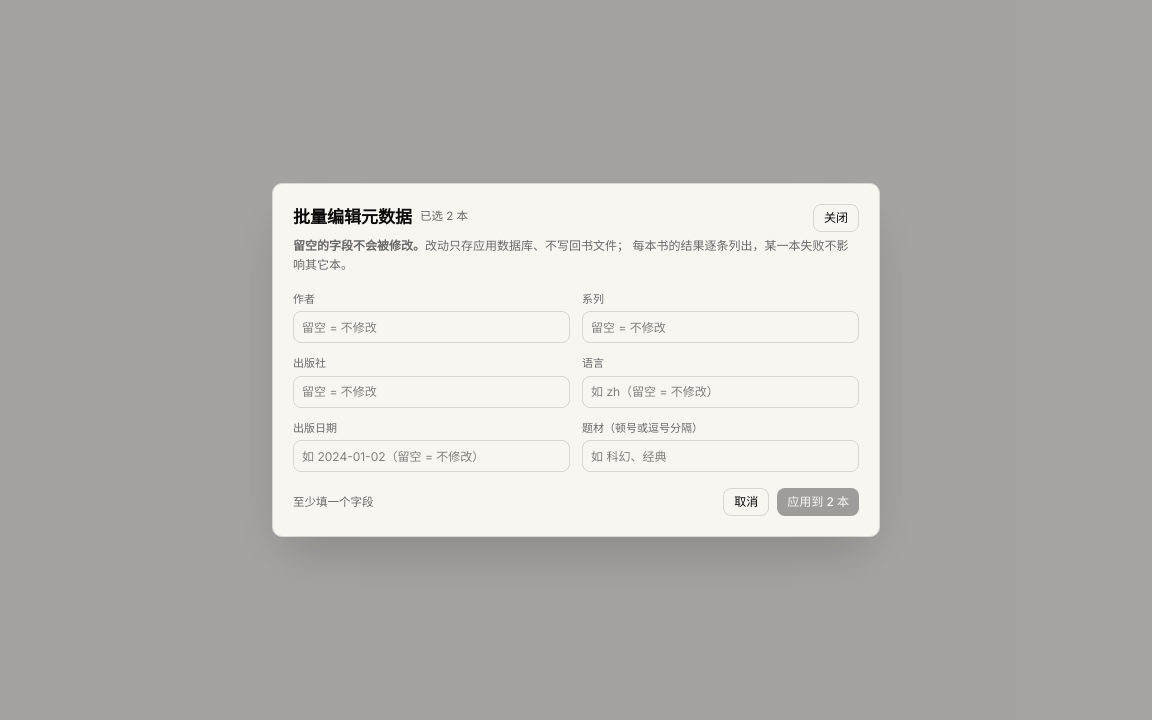
Scenario: BatchMetadataDialog › 失败逐本列出原因，不显示成全部成功
In the field labelled "作者": (432, 327) [293, 311, 570, 343], type "X"
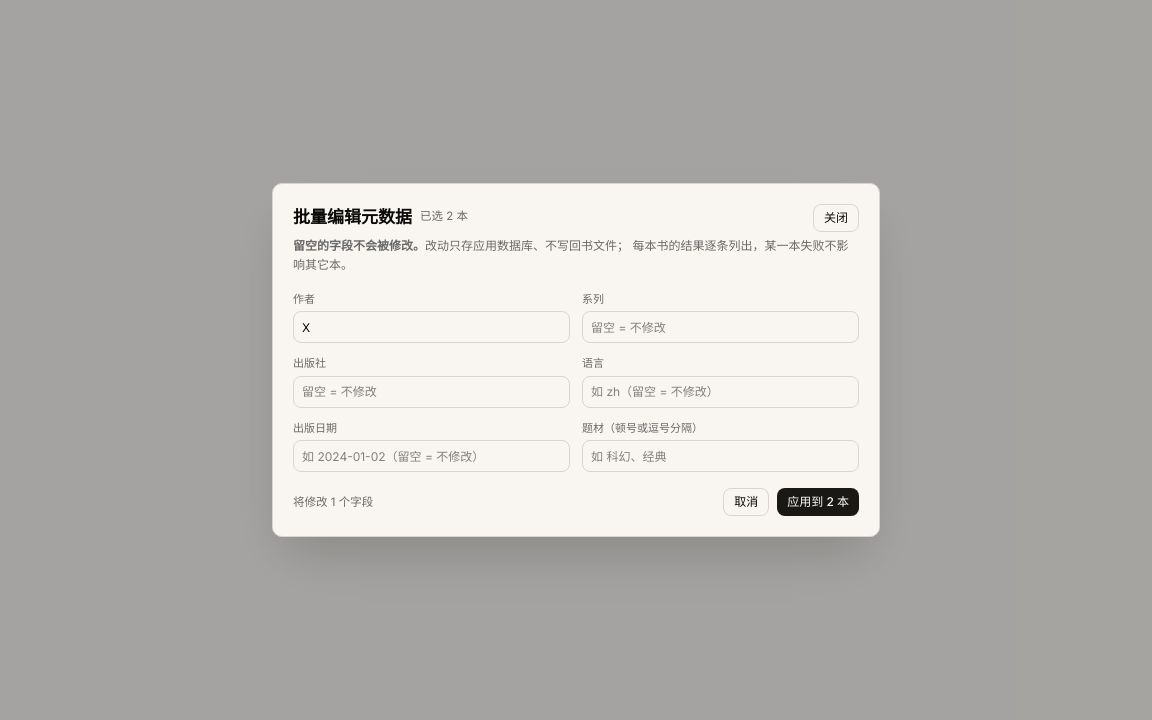
Click the button "应用到 2 本": (818, 502) [777, 488, 859, 516]
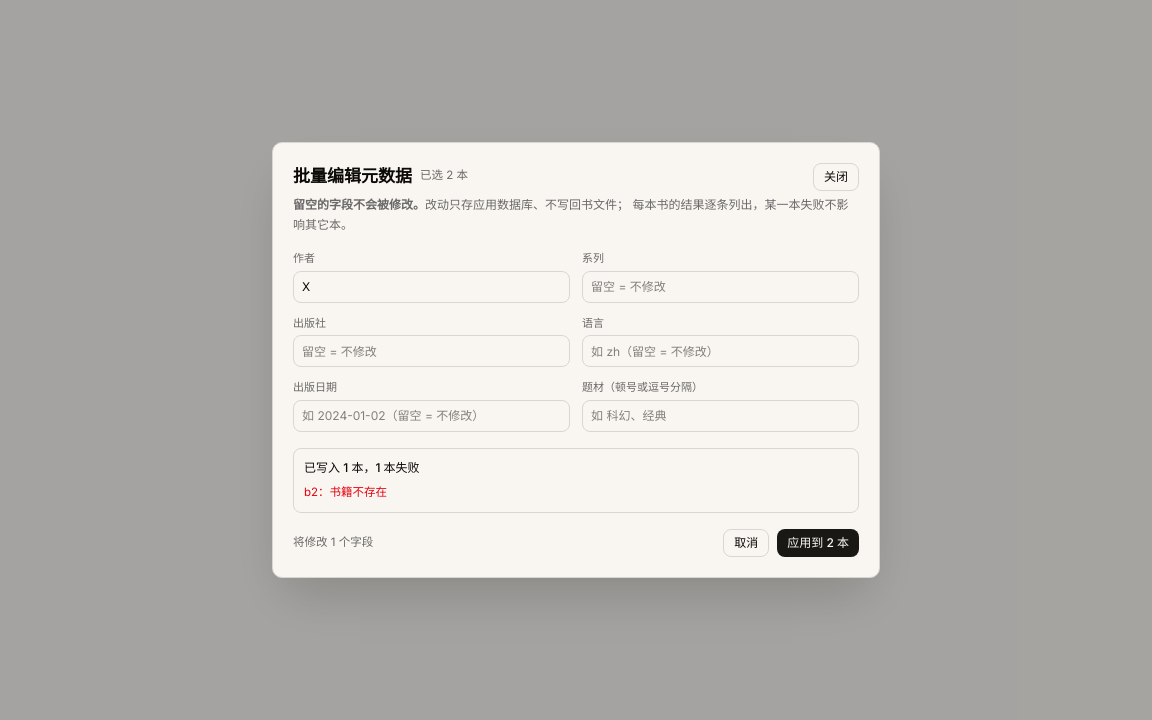
Now the text "已写入 1 本，1 本失败" is shown, box [304, 460, 420, 475]
Now the text "b2：书籍不存在" is shown, box [304, 485, 387, 499]
